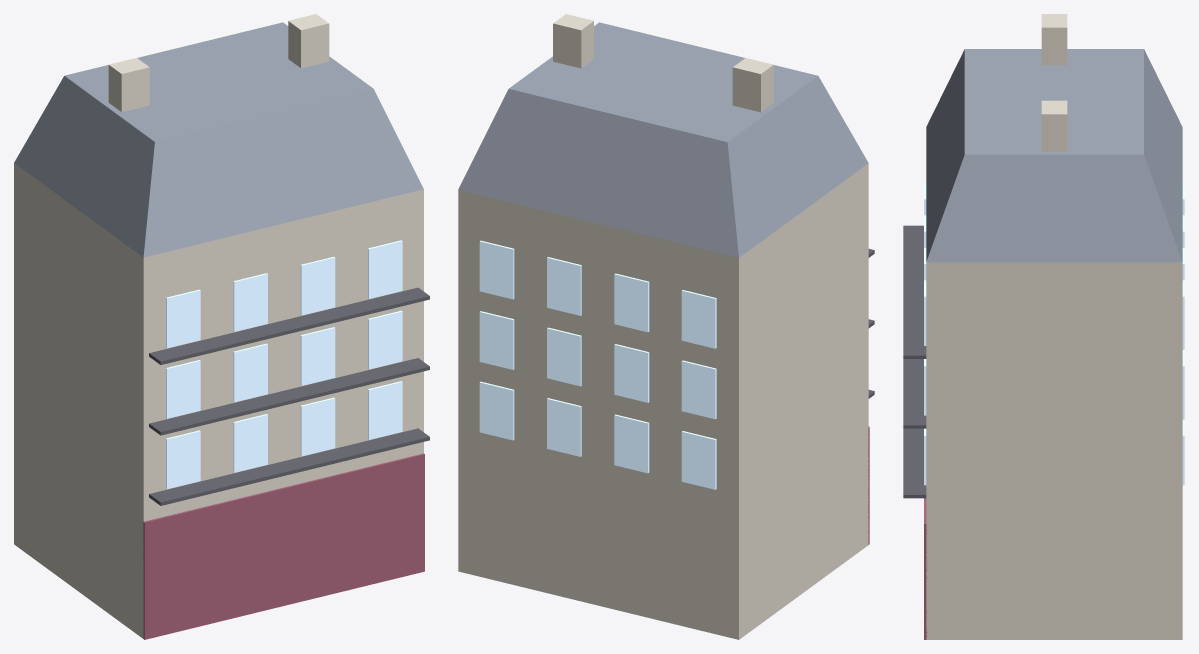
File: haussmann.glb
3 views of the same model, side by side, from view 1: azimuth 30°, elevation 25°; view 2: azimuth 150°, elevation 25°; view 3: azimuth 270°, elevation 25° (orthographic).
Parts seen in each view (by area): view 1: Body, Mansard, ShopFront, Balcony0, Balcony1, Balcony2, Chimney1.6, Chimney-1.6, W22-1, W02-1, W12-1, W03-1 (+8 smaller); view 2: Body, Mansard, Chimney-1.6, Chimney1.6, W101, W031, W111, W211, W001, W011, W131, W231 (+4 smaller); view 3: Body, Mansard, Balcony2, Balcony0, Balcony1, Chimney-1.6, Chimney1.6, ShopFront.
Part boxes in pixels (x1=…): Body: x1=14, y1=163, x2=423, y2=638; Mansard: x1=14, y1=22, x2=423, y2=257; ShopFront: x1=143, y1=453, x2=424, y2=639; Balcony0: x1=149, y1=428, x2=429, y2=505; Balcony1: x1=149, y1=358, x2=429, y2=435; Balcony2: x1=149, y1=287, x2=429, y2=364; Chimney1.6: x1=288, y1=14, x2=329, y2=68; Chimney-1.6: x1=108, y1=58, x2=149, y2=111; W22-1: x1=300, y1=257, x2=335, y2=315; W02-1: x1=300, y1=397, x2=335, y2=456; W12-1: x1=300, y1=327, x2=335, y2=385; W03-1: x1=368, y1=381, x2=402, y2=439; Body: x1=458, y1=163, x2=868, y2=639; Mansard: x1=458, y1=22, x2=868, y2=257; Chimney-1.6: x1=732, y1=58, x2=773, y2=112; Chimney1.6: x1=553, y1=14, x2=593, y2=68; W101: x1=681, y1=360, x2=716, y2=419; W031: x1=479, y1=381, x2=514, y2=440; W111: x1=614, y1=344, x2=649, y2=402; W211: x1=614, y1=273, x2=649, y2=332; W001: x1=681, y1=431, x2=716, y2=489; W011: x1=614, y1=414, x2=649, y2=473; W131: x1=479, y1=311, x2=514, y2=369; W231: x1=479, y1=240, x2=514, y2=299; Body: x1=926, y1=262, x2=1182, y2=639; Mansard: x1=926, y1=49, x2=1182, y2=262; Balcony2: x1=903, y1=225, x2=926, y2=358; Balcony0: x1=903, y1=428, x2=926, y2=498; Balcony1: x1=903, y1=359, x2=926, y2=428; Chimney-1.6: x1=1041, y1=14, x2=1067, y2=65; Chimney1.6: x1=1041, y1=100, x2=1067, y2=151; ShopFront: x1=924, y1=498, x2=927, y2=639.
Size of the model in its own units: 5 by 8.75 by 4.4.
